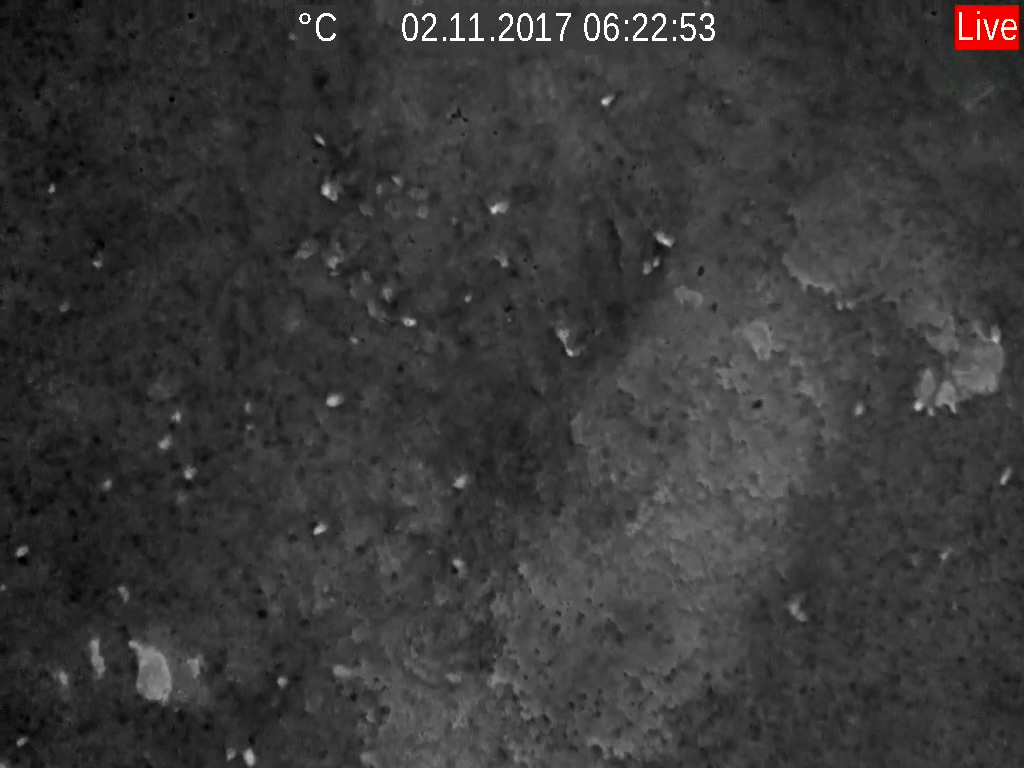warren: (154, 431, 179, 455), (481, 195, 509, 215), (309, 516, 332, 538), (98, 473, 118, 498), (597, 88, 620, 109), (909, 390, 930, 412), (996, 464, 1016, 486), (13, 542, 32, 560)
